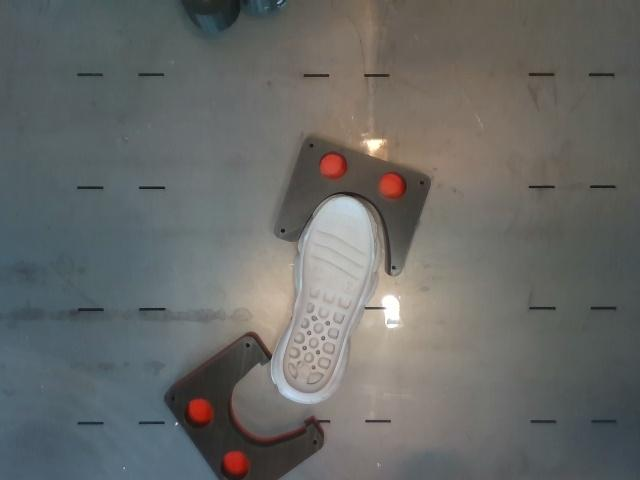shoes: (283, 197, 373, 393)
